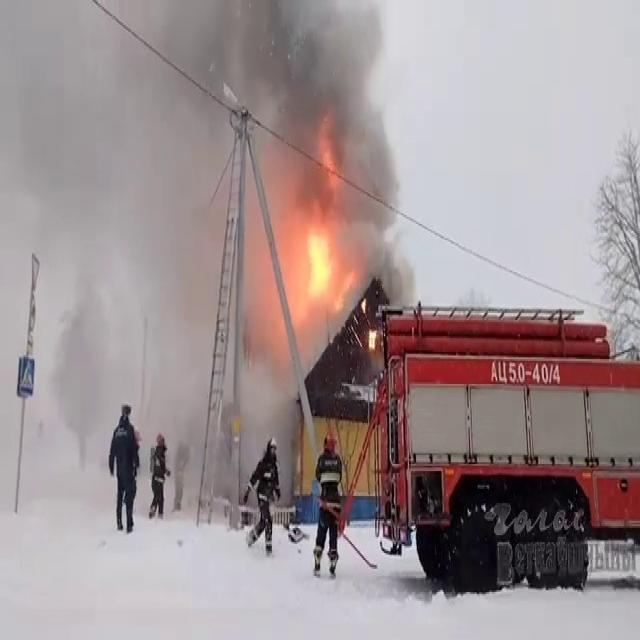Fire: (286, 206, 356, 322)
Smoke: (132, 1, 423, 250)
